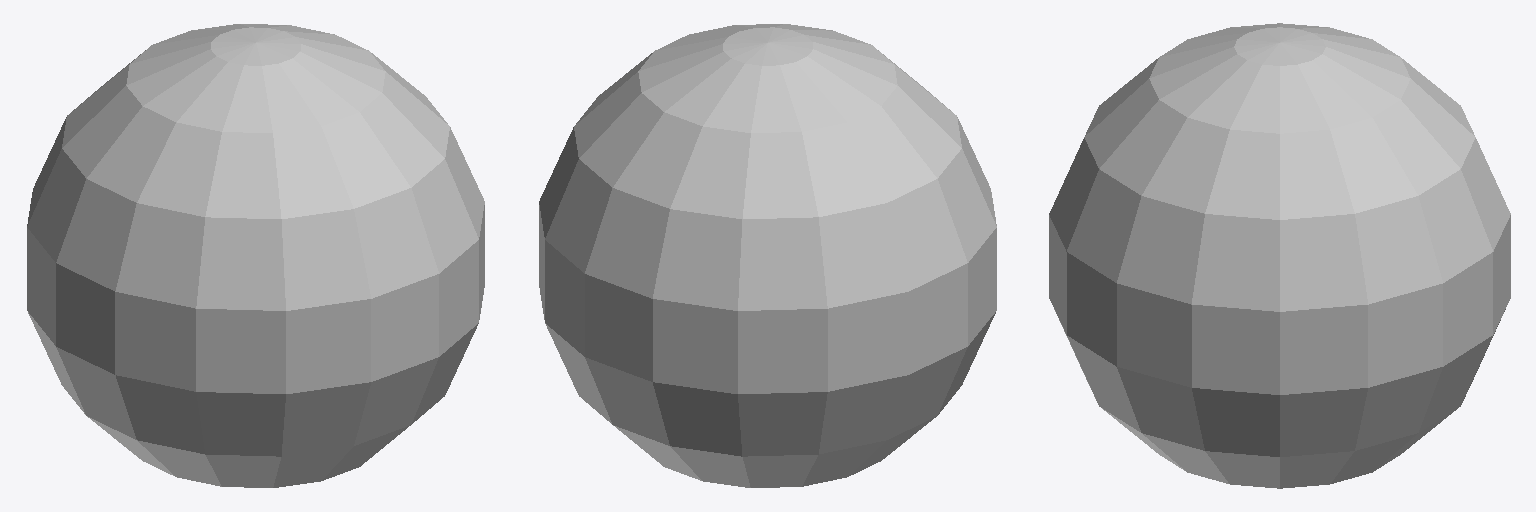
Rendered from sphere_decimated_2.obj.
3 renders of one model, left to right at view 1: azimuth 30°, elevation 25°; view 2: azimuth 150°, elevation 25°; view 3: azimuth 270°, elevation 25°, orthographic.
Parts seen in each view (by area): view 1: Sphere; view 2: Sphere; view 3: Sphere.
Boxes of the visible parts, x1,y1,x2,y2 form: Sphere: [27, 24, 484, 487]; Sphere: [539, 24, 996, 487]; Sphere: [1049, 23, 1510, 488].
Bounding box in the file's own units: 1.96 × 2 × 1.96.